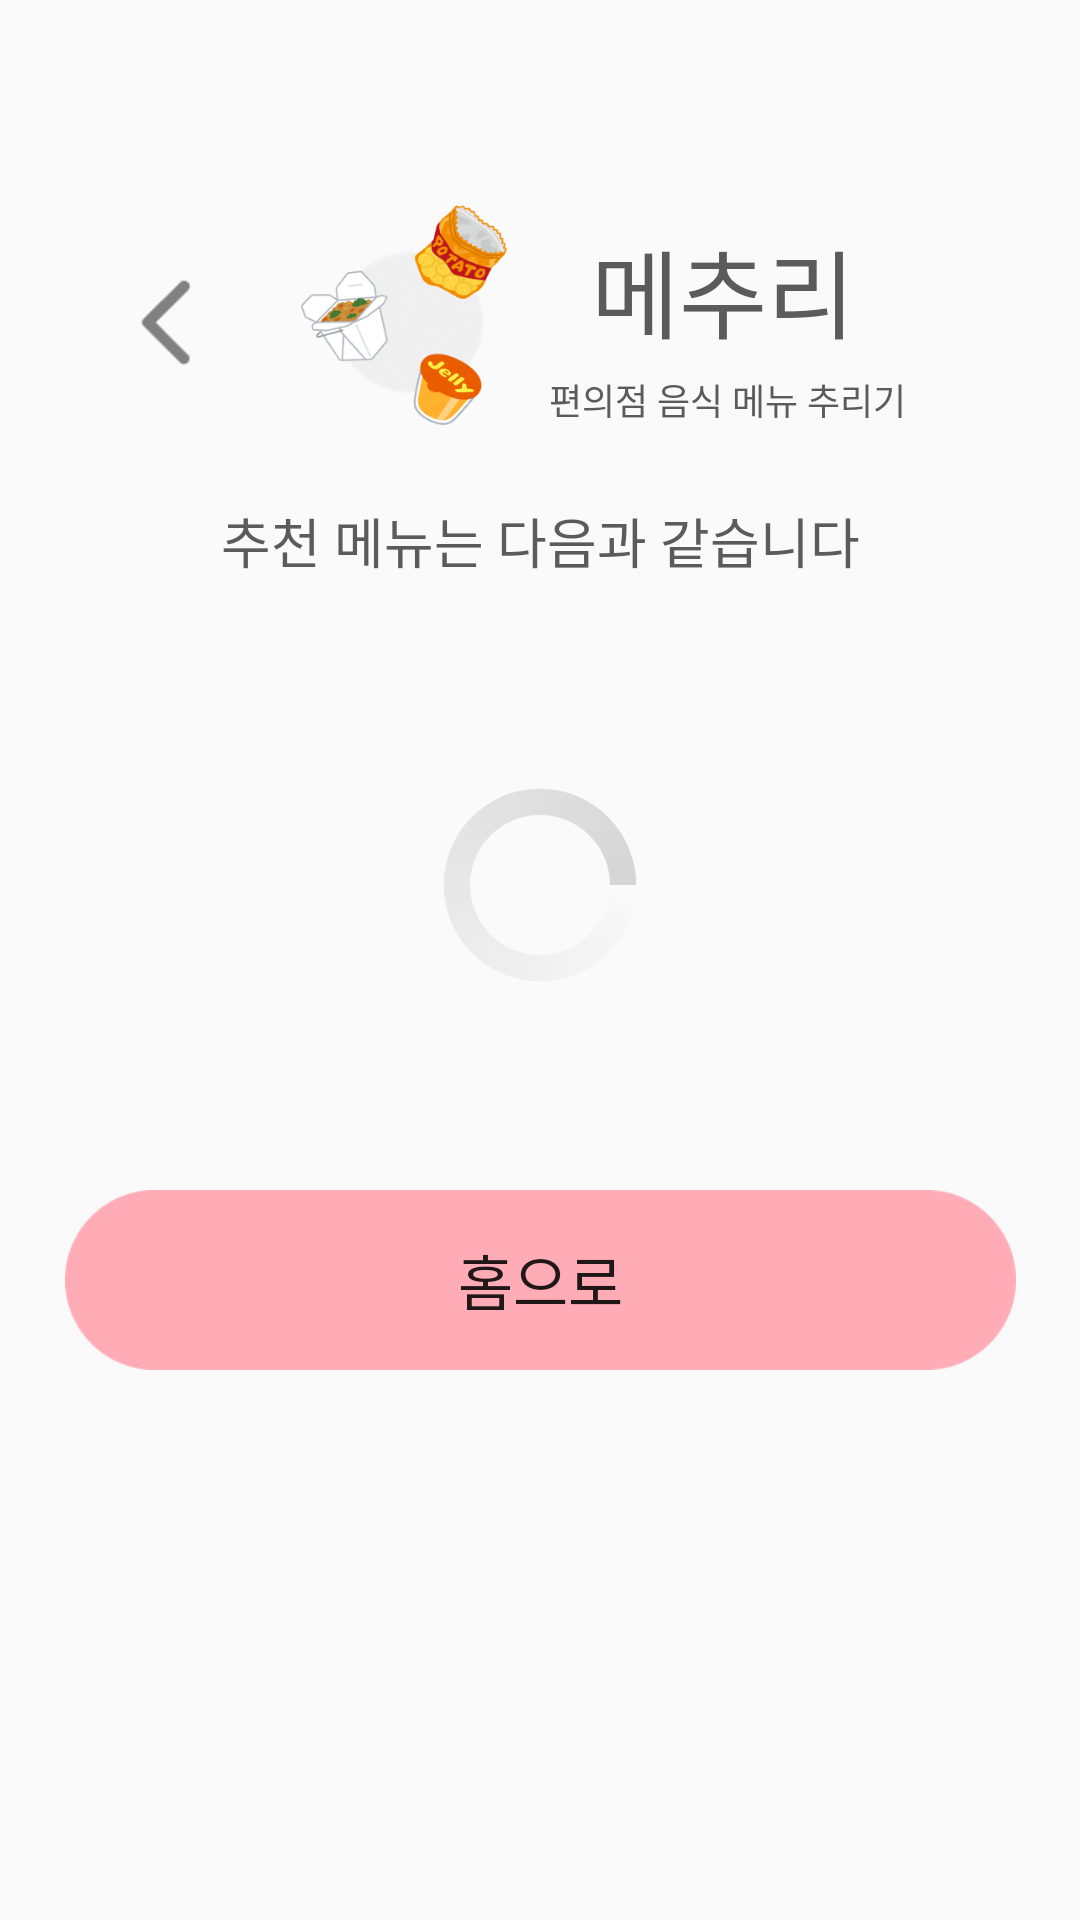

Icons on this 1080x1920 Android screen, each with its box as {"x1": x1, "y1": y1, "x2": x2, "y2": y2}:
backpressbtn: {"x1": 142, "y1": 280, "x2": 190, "y2": 365}
mainicon: {"x1": 301, "y1": 205, "x2": 507, "y2": 425}
